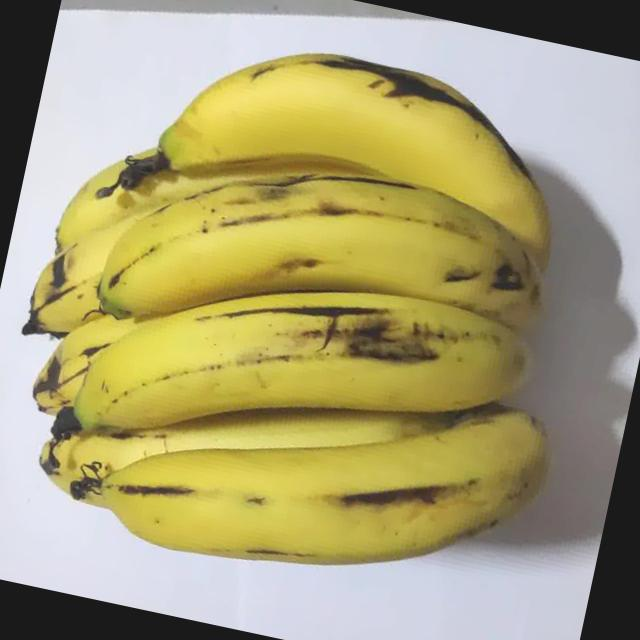banana_pacche: (0, 1, 618, 640)
